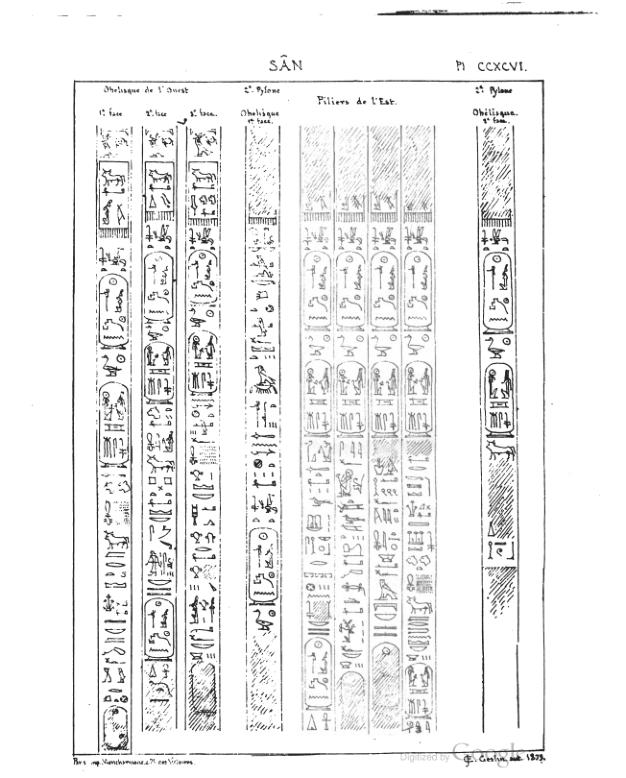circle: (477, 251, 520, 334), (244, 525, 283, 607), (96, 378, 130, 471), (480, 361, 521, 438), (140, 249, 179, 328), (333, 249, 368, 335), (138, 339, 181, 407), (332, 357, 368, 438), (95, 271, 131, 351), (299, 249, 333, 333), (401, 358, 434, 442), (367, 250, 400, 332), (299, 357, 332, 438), (402, 249, 433, 334), (186, 328, 223, 397), (141, 597, 178, 665), (368, 360, 399, 441), (302, 635, 333, 710), (185, 249, 223, 309), (402, 661, 437, 724), (189, 661, 223, 716), (102, 706, 130, 754)
